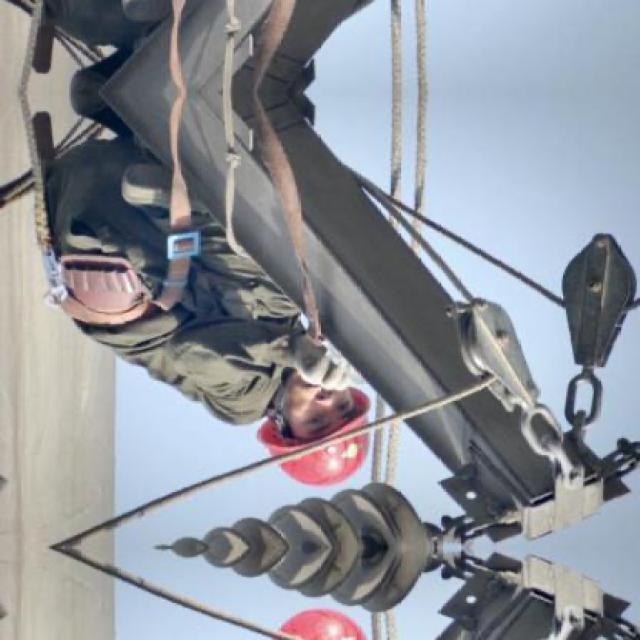con casco: (230, 383, 390, 506)
